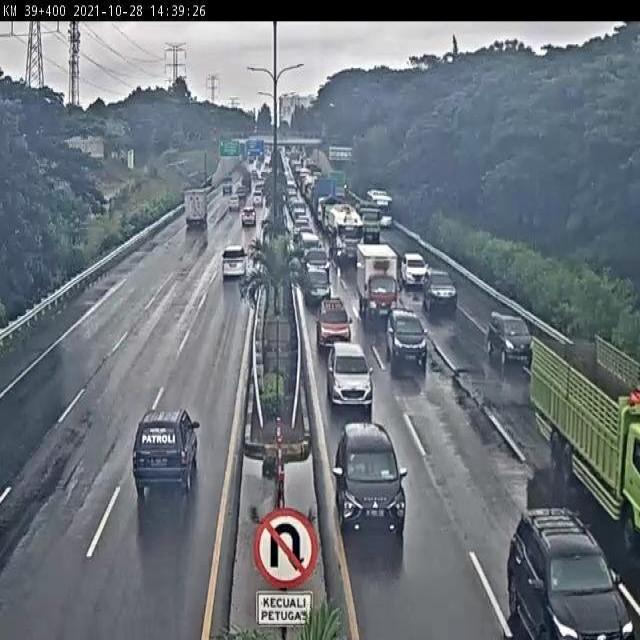big truck: (518, 316, 640, 543), (325, 200, 367, 265)
car: (486, 485, 614, 640), (122, 393, 212, 519), (330, 409, 407, 536), (319, 331, 374, 412), (382, 302, 429, 370), (488, 313, 535, 375), (313, 296, 357, 351), (423, 266, 460, 318), (214, 244, 249, 295), (399, 250, 429, 290), (235, 202, 261, 235), (248, 188, 266, 212), (222, 195, 242, 213), (232, 562, 233, 570)
small truck: (348, 242, 402, 322), (180, 182, 216, 238)
